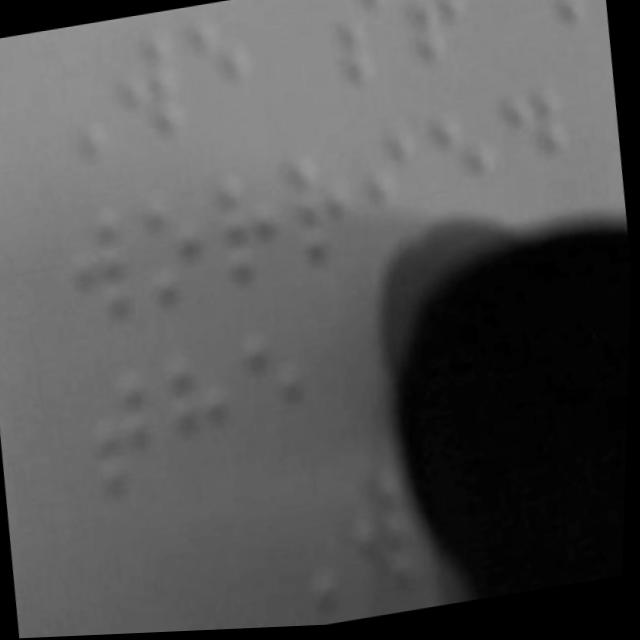braiile: (235, 319, 329, 474), (275, 134, 369, 281), (155, 346, 243, 503), (81, 361, 167, 518), (204, 157, 294, 304), (129, 177, 221, 318), (64, 189, 151, 337), (421, 99, 506, 250), (180, 7, 265, 150), (356, 125, 437, 266), (109, 25, 196, 156), (319, 0, 404, 98)
